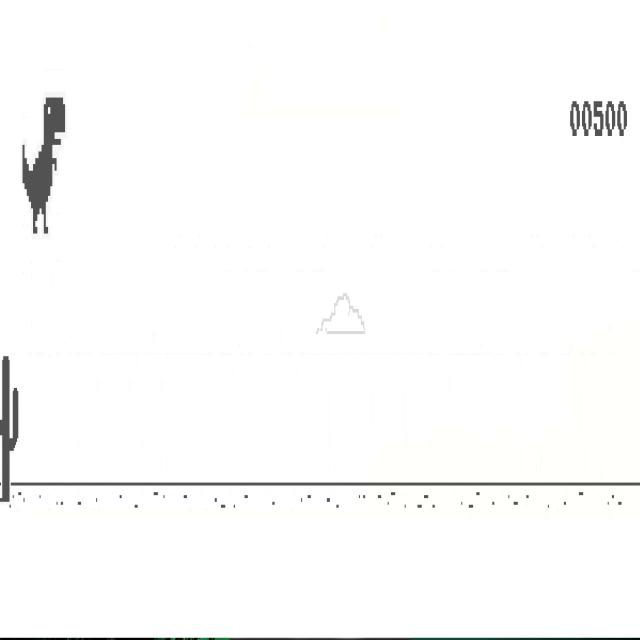cacto: (0, 355, 19, 502)
dino: (23, 96, 66, 235)
